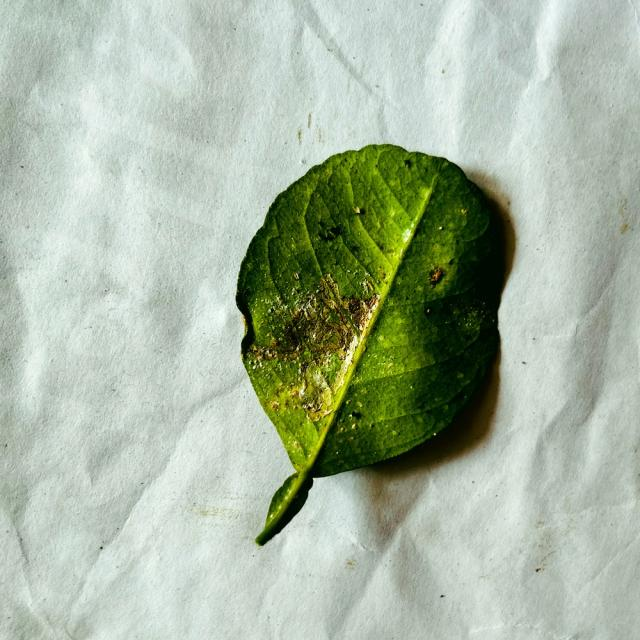Bacterial_Blight: (305, 332, 363, 415), (421, 291, 491, 344), (277, 303, 347, 355), (272, 477, 299, 510), (324, 274, 342, 300), (376, 354, 396, 373), (319, 226, 339, 243), (362, 295, 378, 314), (305, 397, 322, 414), (258, 345, 276, 361), (348, 298, 363, 314), (429, 268, 443, 283), (401, 226, 413, 243), (289, 387, 301, 399), (360, 281, 371, 294), (423, 306, 433, 317), (304, 308, 313, 320), (291, 309, 301, 319), (354, 206, 365, 215), (271, 401, 280, 411), (282, 399, 291, 409), (289, 402, 299, 411), (294, 440, 303, 450), (274, 308, 285, 316), (270, 338, 279, 347), (403, 159, 412, 168), (376, 266, 385, 274), (275, 296, 283, 305), (302, 403, 310, 411), (291, 286, 299, 294), (293, 272, 300, 280), (277, 381, 284, 389), (266, 332, 273, 340), (456, 372, 464, 379), (460, 208, 468, 215), (387, 248, 395, 254)
Lemon: (234, 144, 514, 547)
